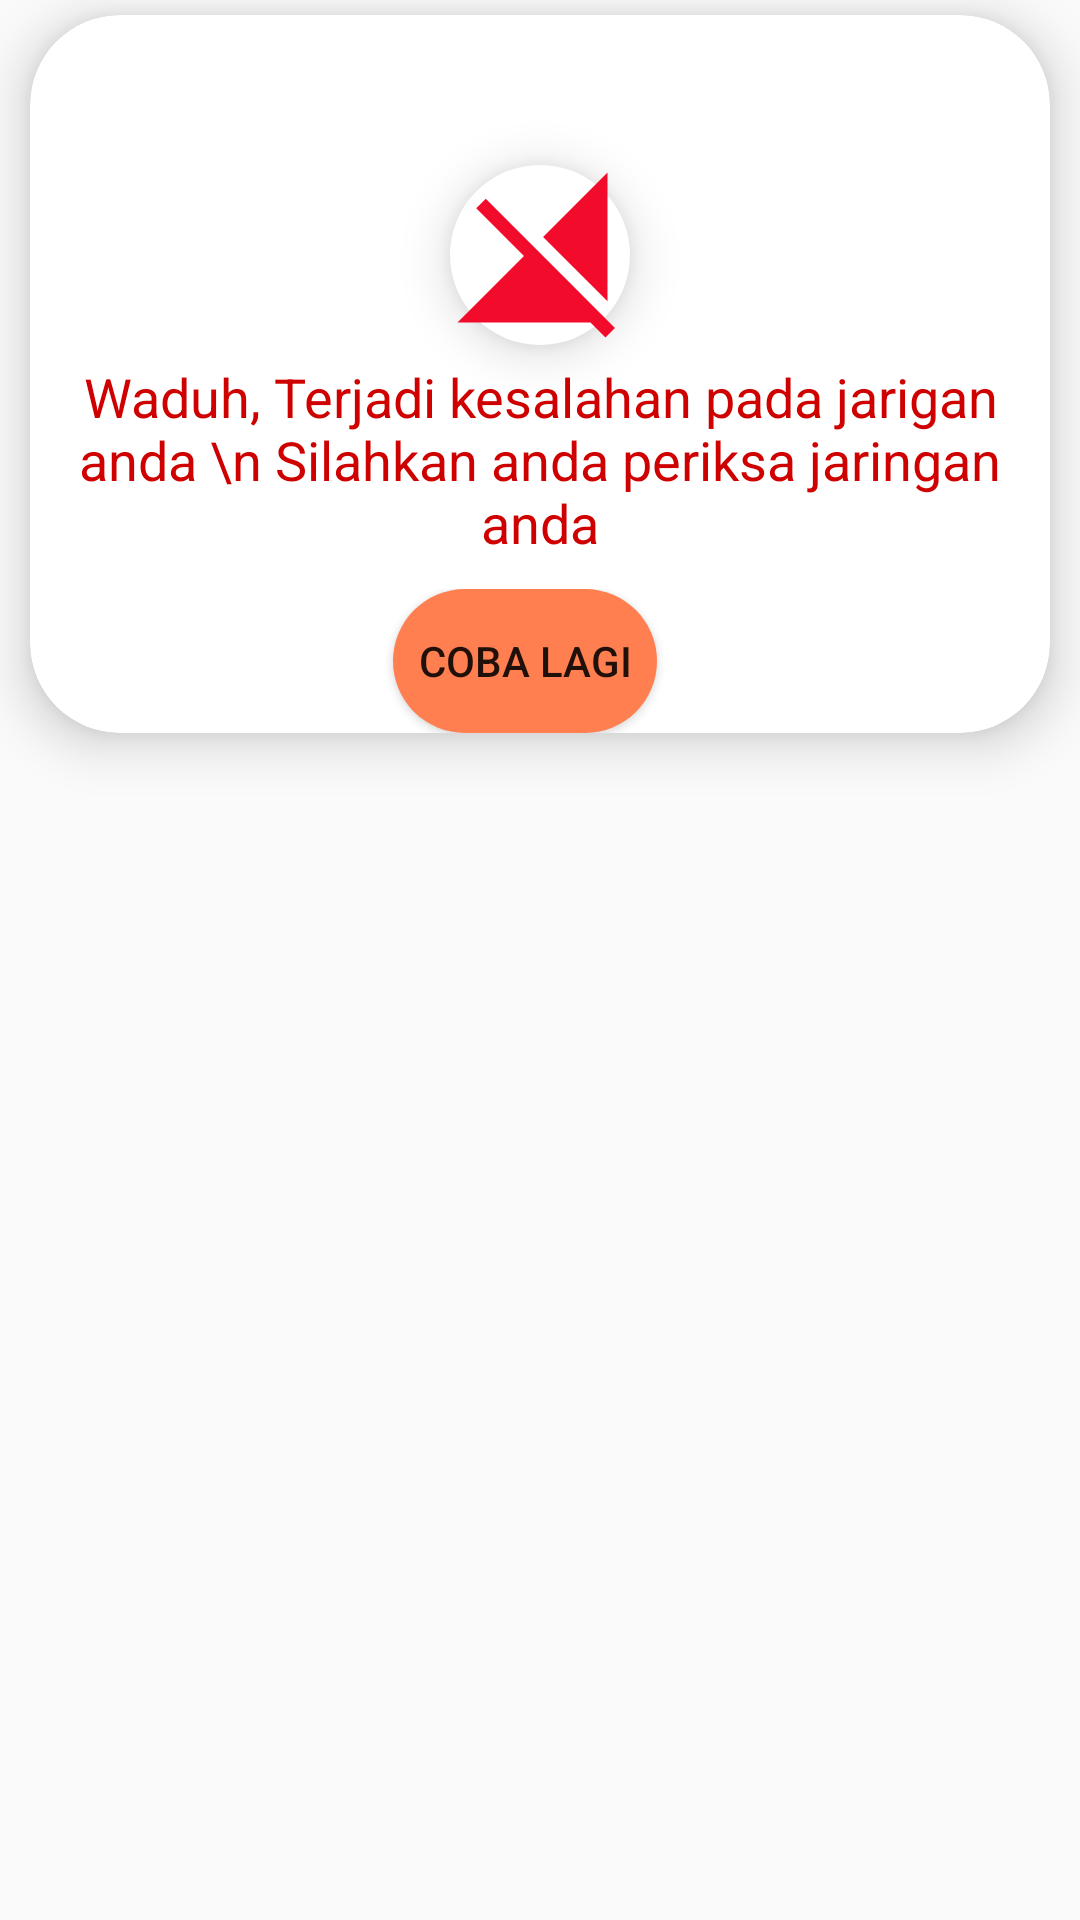

Screen size 1080 x 1920. Icon name, then its box in pixels as [x1,y1,x2,y2]:
signal cellular off: [457,172,615,338]
